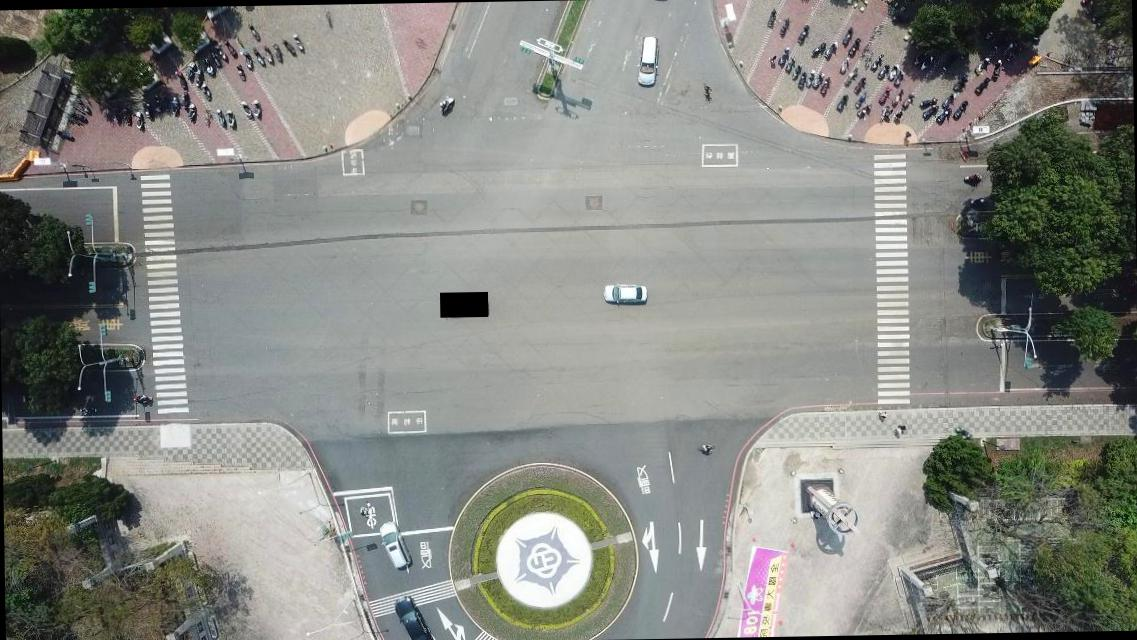vehicle: (392, 592, 436, 639), (378, 518, 414, 570), (634, 34, 660, 90), (602, 282, 648, 306)
